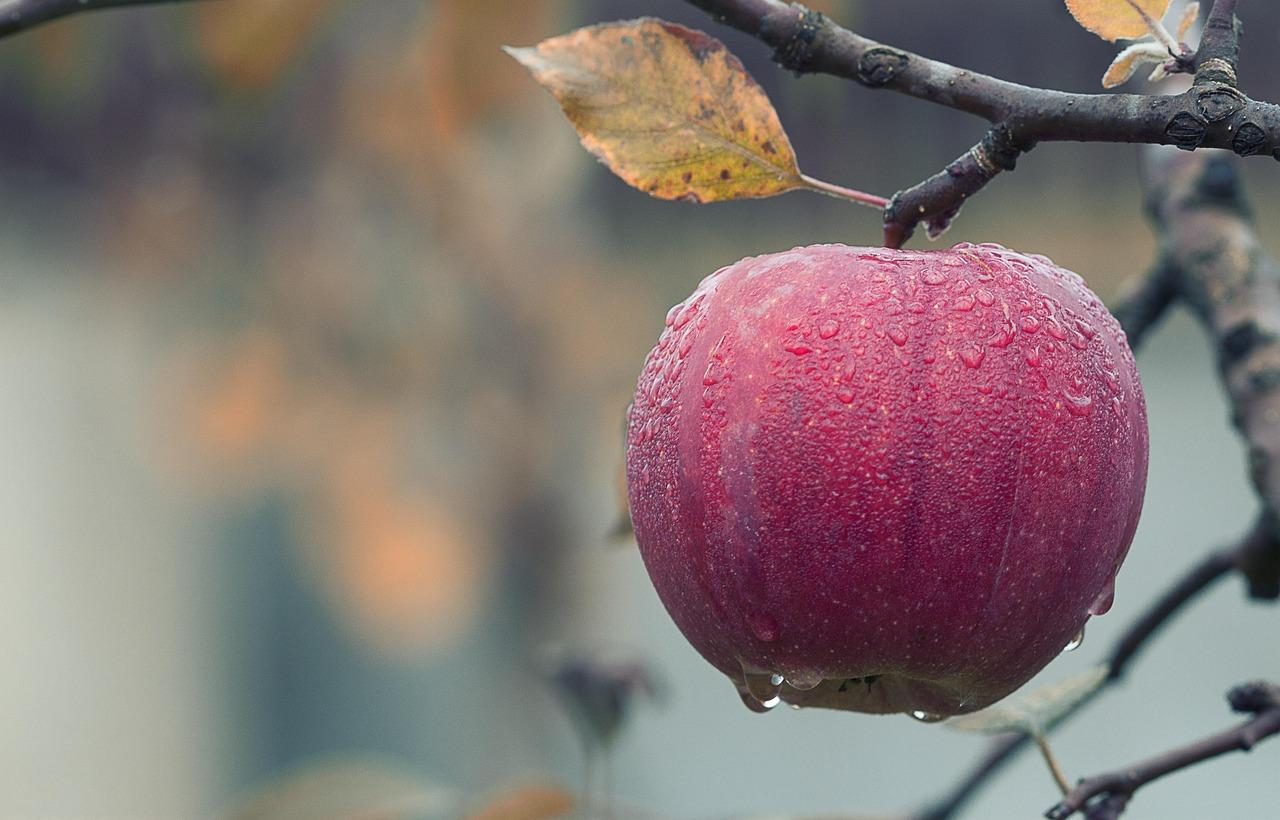apple: (617, 237, 1163, 729)
